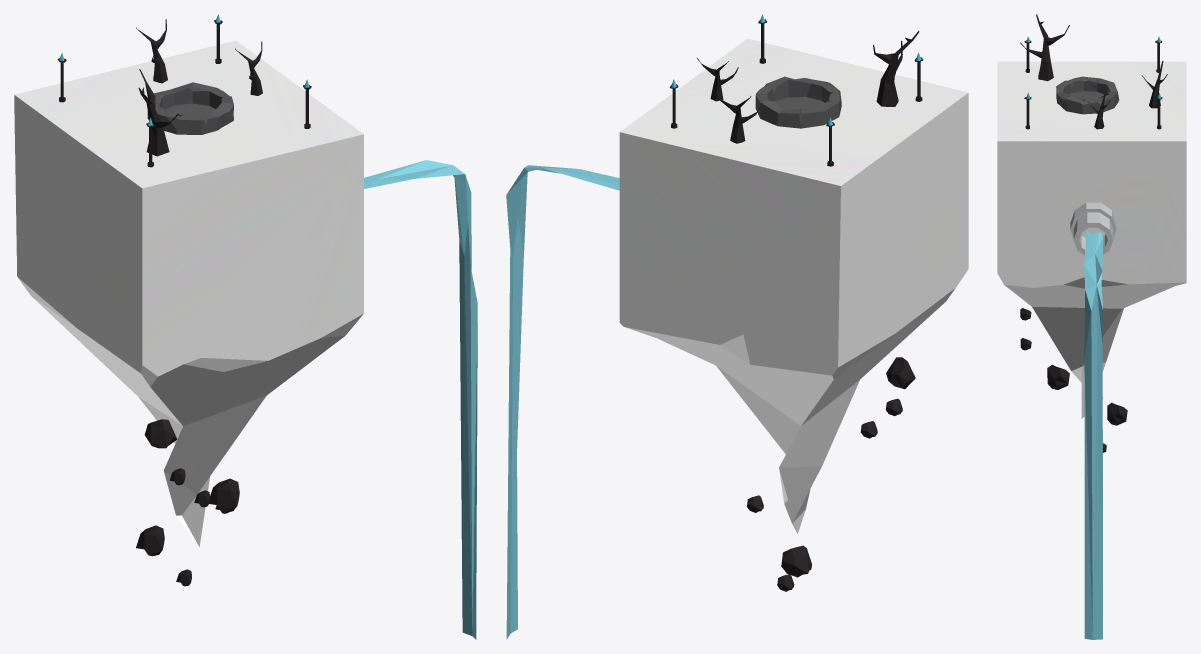
The model's file is pulau1.fbx.
3 renders of one model, left to right at view 1: azimuth 30°, elevation 25°; view 2: azimuth 150°, elevation 25°; view 3: azimuth 270°, elevation 25°, orthographic. The views are drawn at different scales.
Visible parts, largest first — view 1: Cube.002, Cube.001, Cube.000, Cube.006; view 2: Cube.002, Cube.006, Cube.000; view 3: Cube.002, Cube.001, Cube.006.
Part boxes in pixels (bbox=[...]): Cube.002: bbox=[14, 14, 477, 639]; Cube.001: bbox=[209, 478, 239, 512]; Cube.000: bbox=[144, 419, 177, 448]; Cube.006: bbox=[136, 525, 164, 556]; Cube.002: bbox=[506, 14, 968, 639]; Cube.006: bbox=[781, 545, 811, 577]; Cube.000: bbox=[886, 357, 915, 389]; Cube.002: bbox=[997, 14, 1186, 639]; Cube.001: bbox=[1047, 364, 1069, 389]; Cube.006: bbox=[1107, 402, 1127, 425].
Size of the model in its own units: 320 by 517 by 180.
